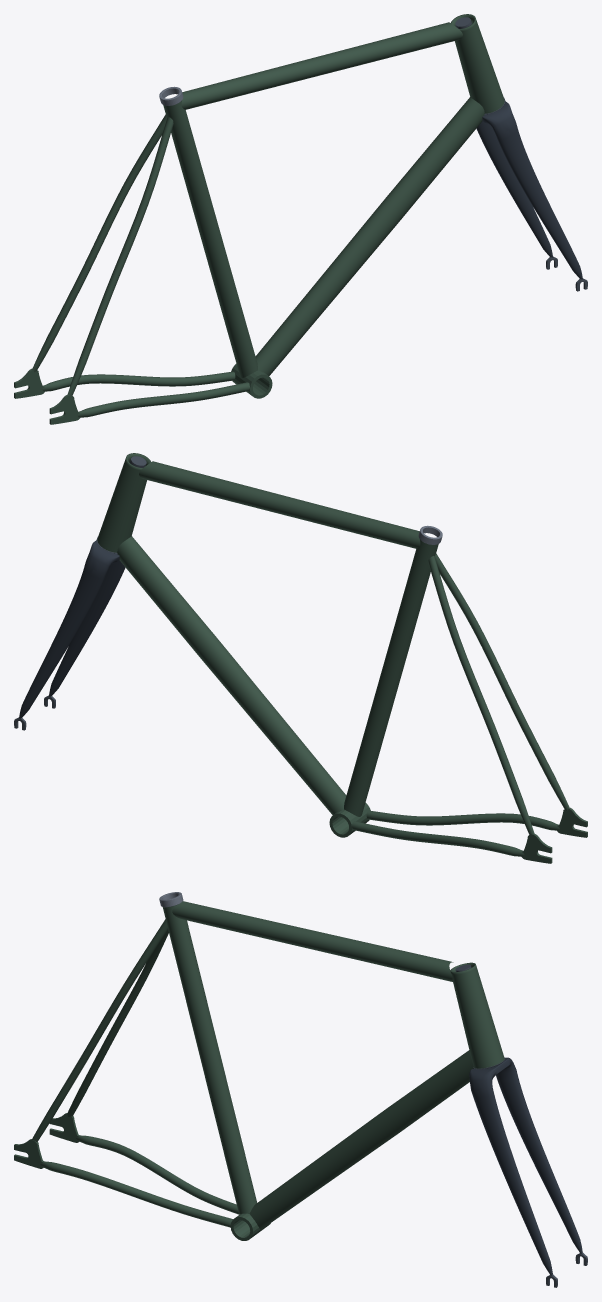
The model's file is skream-ranger-xl.glb.
3 renders of one model, top to bottom at view 1: azimuth 30°, elevation 25°; view 2: azimuth 150°, elevation 25°; view 3: azimuth 330°, elevation 25°, orthographic.
Parts seen in each view (by area): view 1: paint_down, paint_seat, paint_top, fork_blade_1, paint_head, paint_seatstay_1, paint_seatstay_-1, fork_blade_-1, paint_chainstay_-1, paint_chainstay_1, paint_bottom_bracket, fork_crown (+2 smaller); view 2: paint_down, paint_seat, paint_top, fork_blade_-1, paint_head, paint_seatstay_-1, paint_seatstay_1, fork_blade_1, paint_chainstay_1, paint_chainstay_-1, paint_bottom_bracket, fork_crown (+2 smaller); view 3: paint_down, paint_seat, paint_top, paint_head, fork_blade_1, fork_blade_-1, paint_seatstay_1, paint_chainstay_1, paint_chainstay_-1, paint_seatstay_-1, fork_crown, paint_bottom_bracket (+2 smaller).
Boxes of the visible parts, bbox=[...] form: paint_down: bbox=[255, 97, 484, 375]; paint_seat: bbox=[163, 100, 257, 377]; paint_top: bbox=[181, 22, 462, 109]; fork_blade_1: bbox=[495, 124, 582, 279]; paint_head: bbox=[451, 14, 504, 113]; paint_seatstay_1: bbox=[67, 117, 173, 395]; paint_seatstay_-1: bbox=[32, 114, 167, 372]; fork_blade_-1: bbox=[476, 121, 552, 257]; paint_chainstay_-1: bbox=[42, 371, 235, 391]; paint_chainstay_1: bbox=[77, 382, 249, 417]; paint_bottom_bracket: bbox=[231, 363, 272, 398]; fork_crown: bbox=[482, 101, 516, 134]; paint_down: bbox=[117, 536, 346, 814]; paint_seat: bbox=[344, 539, 438, 816]; paint_top: bbox=[139, 461, 420, 548]; fork_blade_-1: bbox=[19, 563, 106, 718]; paint_head: bbox=[97, 453, 150, 552]; paint_seatstay_-1: bbox=[428, 556, 534, 834]; paint_seatstay_1: bbox=[434, 553, 569, 811]; fork_blade_1: bbox=[49, 560, 125, 696]; paint_chainstay_1: bbox=[366, 810, 559, 830]; paint_chainstay_-1: bbox=[352, 821, 524, 856]; paint_bottom_bracket: bbox=[329, 802, 370, 837]; fork_crown: bbox=[85, 540, 119, 573]; paint_down: bbox=[249, 1050, 473, 1229]; paint_seat: bbox=[162, 905, 257, 1214]; paint_top: bbox=[172, 901, 453, 981]; paint_head: bbox=[450, 962, 504, 1068]; fork_blade_1: bbox=[471, 1087, 552, 1275]; fork_blade_-1: bbox=[496, 1070, 582, 1253]; paint_seatstay_1: bbox=[32, 919, 167, 1141]; paint_chainstay_1: bbox=[40, 1161, 232, 1227]; paint_chainstay_-1: bbox=[76, 1135, 238, 1214]; paint_seatstay_-1: bbox=[67, 929, 168, 1116]; fork_crown: bbox=[469, 1057, 516, 1091]; paint_bottom_bracket: bbox=[230, 1213, 270, 1240].
Bounding box in the file's own units: 1.1 × 0.6238 × 0.1434.
